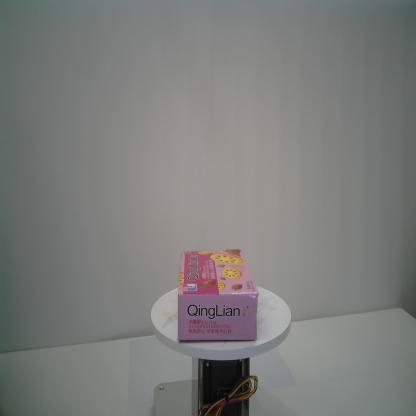Dessert: (178, 248, 259, 342)
